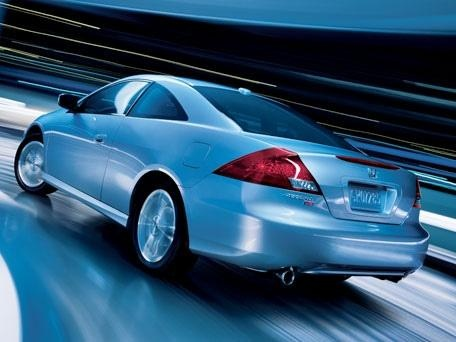car: (14, 74, 431, 288)
